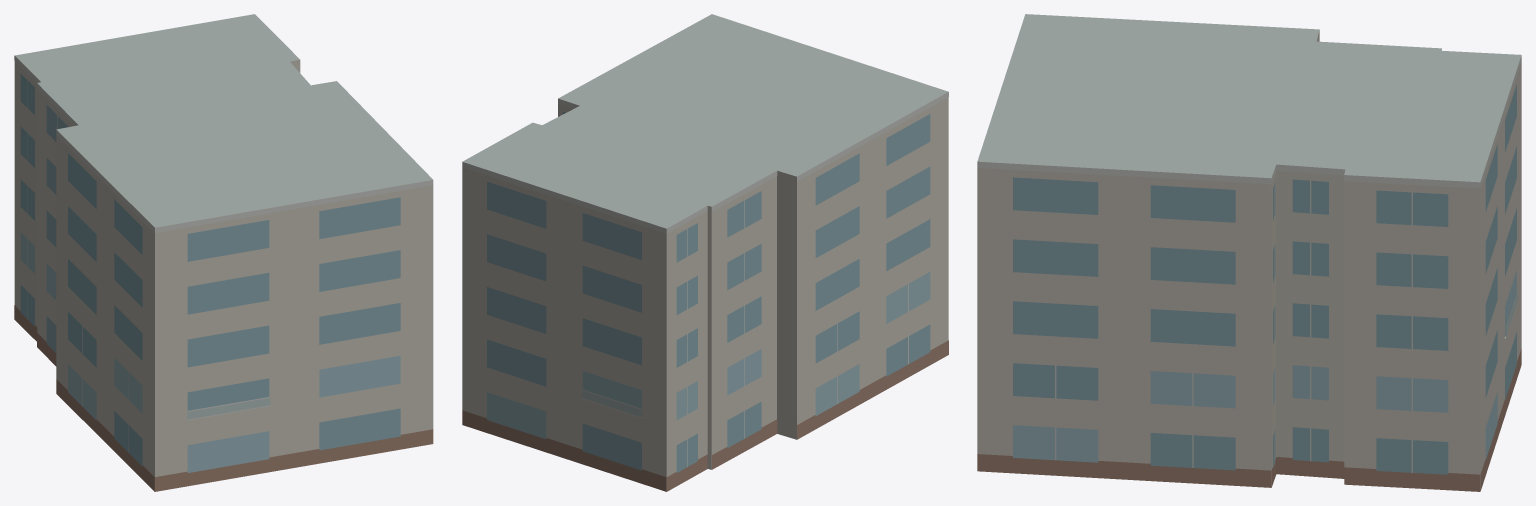
File: survey-upis-32620239.glb
The picture shows the model from 3 angles, left to right: view 1: azimuth 30°, elevation 25°; view 2: azimuth 150°, elevation 25°; view 3: azimuth 270°, elevation 25°; orthographic projection. The views are drawn at different scales.
Visible parts, largest first — view 1: survey-upis-32620239.tmp; view 2: survey-upis-32620239.tmp; view 3: survey-upis-32620239.tmp.
Boxes of the visible parts, x1=… form: survey-upis-32620239.tmp: x1=14, y1=14, x2=433, y2=491; survey-upis-32620239.tmp: x1=462, y1=14, x2=948, y2=491; survey-upis-32620239.tmp: x1=977, y1=14, x2=1521, y2=491.
Size of the model in its own units: 14.28 by 12.24 by 19.51.
